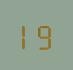nine: (36, 19, 52, 50)
one: (19, 19, 35, 49)
